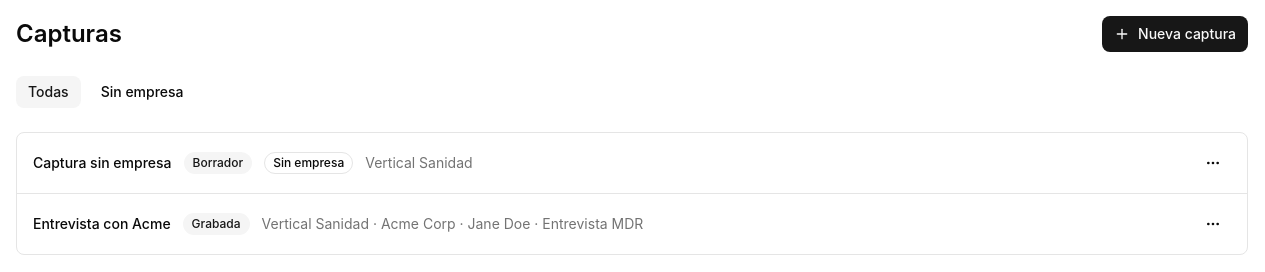
CapturesPage › listing › filters to companyId-null captures with the "Sin empresa" chip and clears with "Limpiar filtros"
The width and height of the screenshot is (1265, 272).
Expected: the link "Entrevista con Acme" is shown, [33,214,171,234]
Click the button "Sin empresa".
click(142, 92)  # box [89,76,196,108]
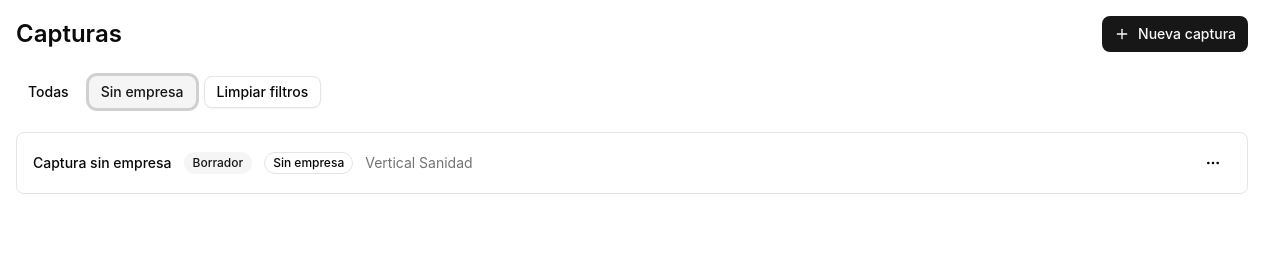
Expected: the link "Captura sin empresa" is shown, [33,153,172,173]
Expected: the link "Entrevista con Acme" is gone
// Con filtro activo aparece "Limpiar filtros" y restaura el listado completo
Click the button "Limpiar filtros".
click(262, 92)  # box [204,76,321,108]
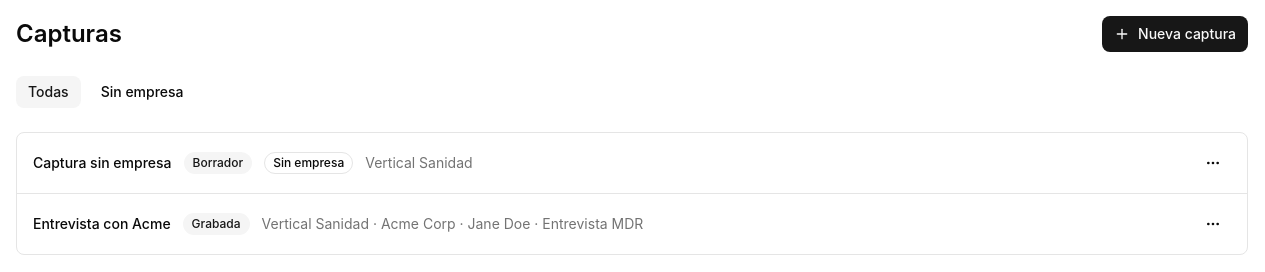
Expected: the link "Entrevista con Acme" is shown, [33,214,171,234]
Expected: the button "Limpiar filtros" is gone
